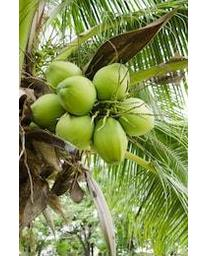coconut: (44, 55, 85, 94), (94, 120, 127, 167), (91, 63, 129, 103), (57, 76, 95, 115), (115, 98, 156, 133), (31, 90, 66, 128), (56, 111, 94, 146)
